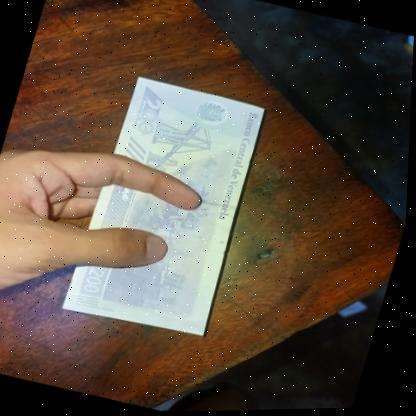two_hundred-back-vef: (61, 71, 274, 346)
